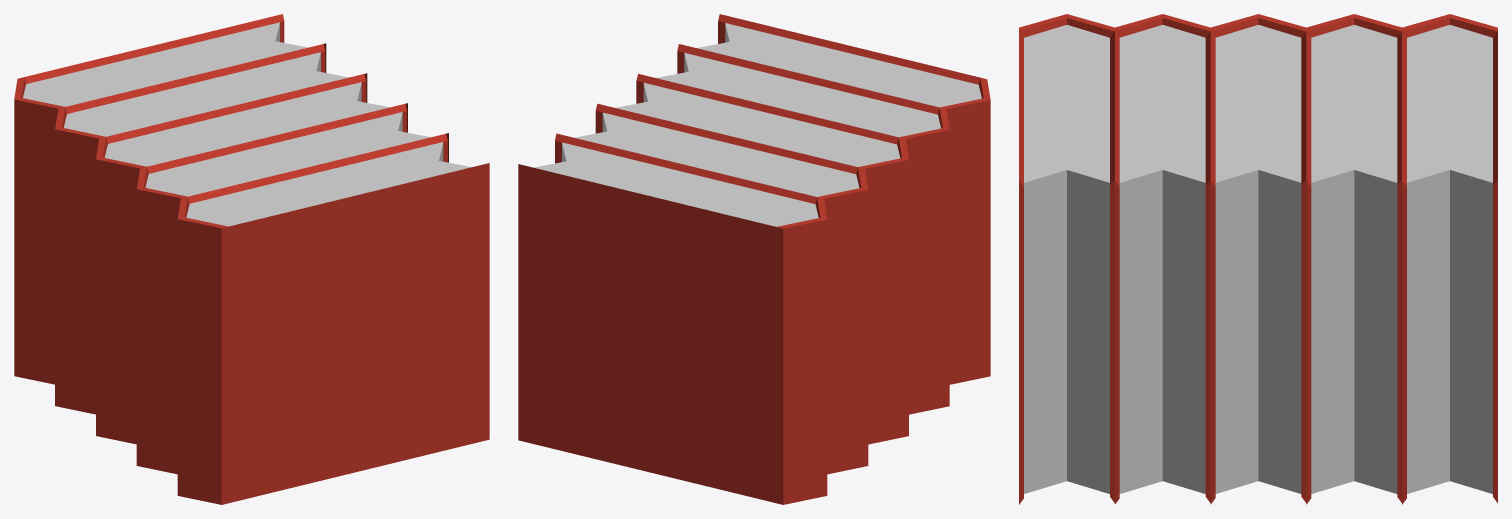
Rendered from books1.fbx.
3 views of the same model, side by side, from view 1: azimuth 30°, elevation 25°; view 2: azimuth 150°, elevation 25°; view 3: azimuth 270°, elevation 25° (orthographic). The views are drawn at different scales.
Parts seen in each view (by area): view 1: books1; view 2: books1; view 3: books1.
Part boxes in pixels (x1,y1,x2,y2): books1: (14, 14, 489, 504); books1: (518, 14, 990, 504); books1: (1019, 14, 1497, 504).
Bounding box in the file's own units: 28.94 × 26.23 × 35.11.
